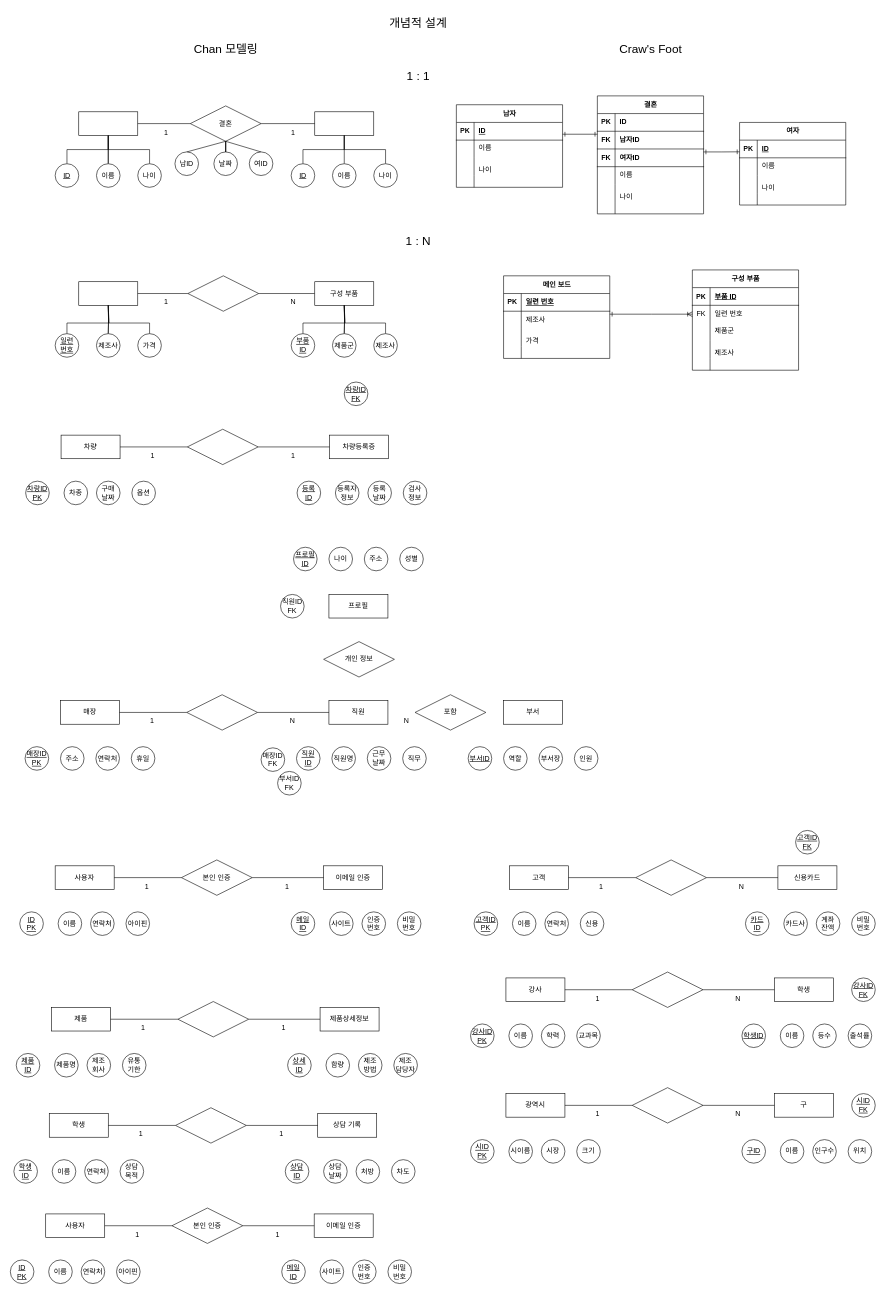
Image size: 886x1294. Some labels were removed from this diagram. Each missing label, with the centre of its shape:
"개인 상담" goes at point 210,1125.
"남성" goes at point 108,123.
"메인보드" goes at point 108,293.
"보유 계좌" goes at point 671,877.
"세부 구역" goes at point 667,1105.
"소속" goes at point 222,712.
"수업" goes at point 667,989.
"여성" goes at point 344,123.
"제조 과정" goes at point 213,1019.
"조립" goes at point 223,293.
"증빙 서류" goes at point 222,447.
